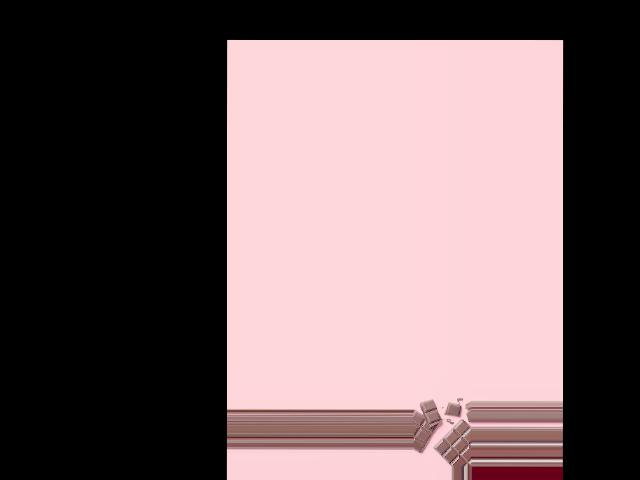chocolate: (417, 403, 471, 467)
